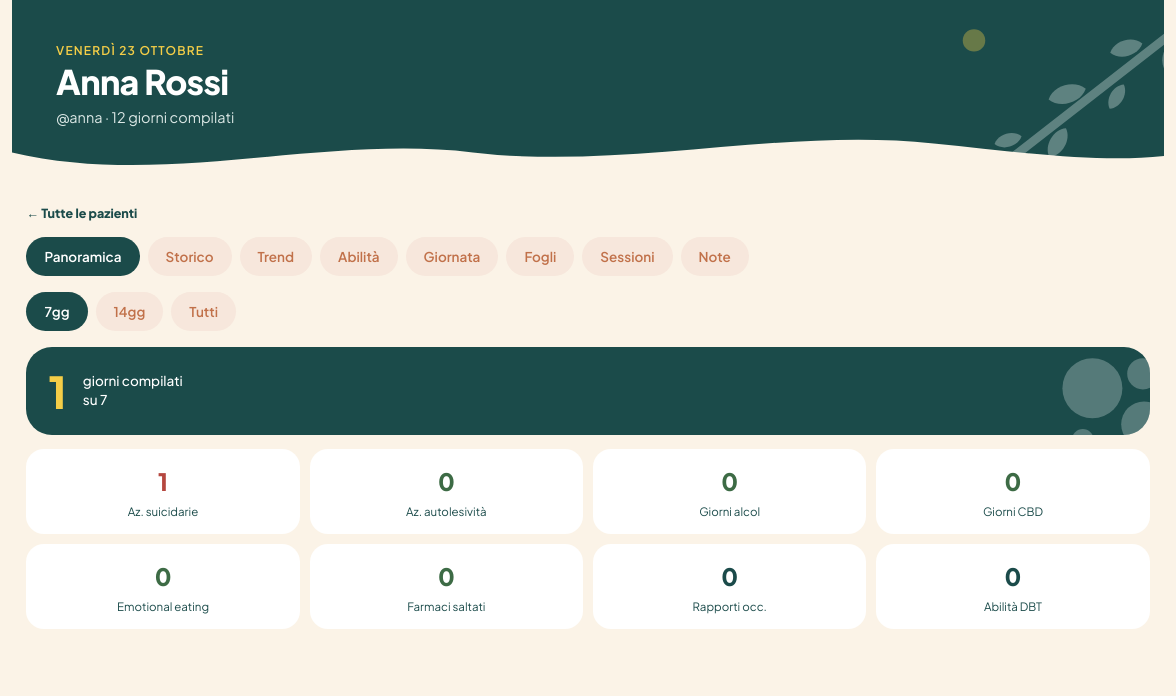
Test case: scheda paziente › la vista Trend mostra i grafici
expect the text "Az. suicidarie" is shown: met, box top-left (128, 505), bottom-right (198, 520)
Step 1. Click the button "Trend" → (276, 256), box top-left (240, 237), bottom-right (312, 276)
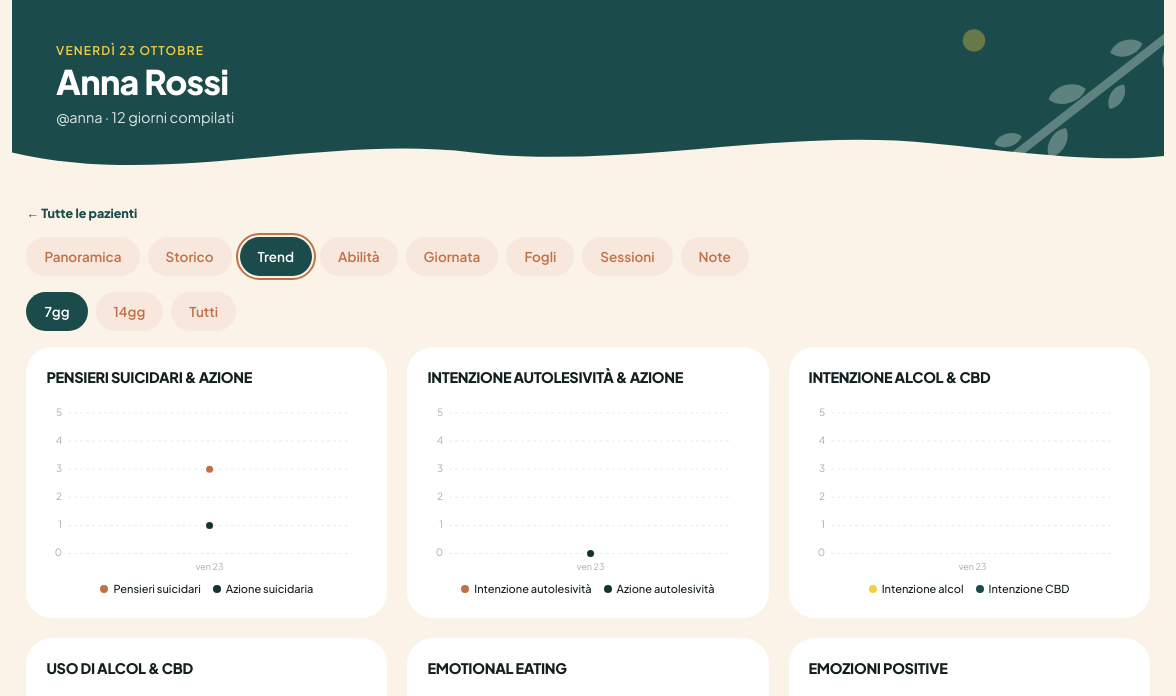
expect the heading "Emozioni positive" is shown: met, box top-left (808, 659), bottom-right (947, 677)
